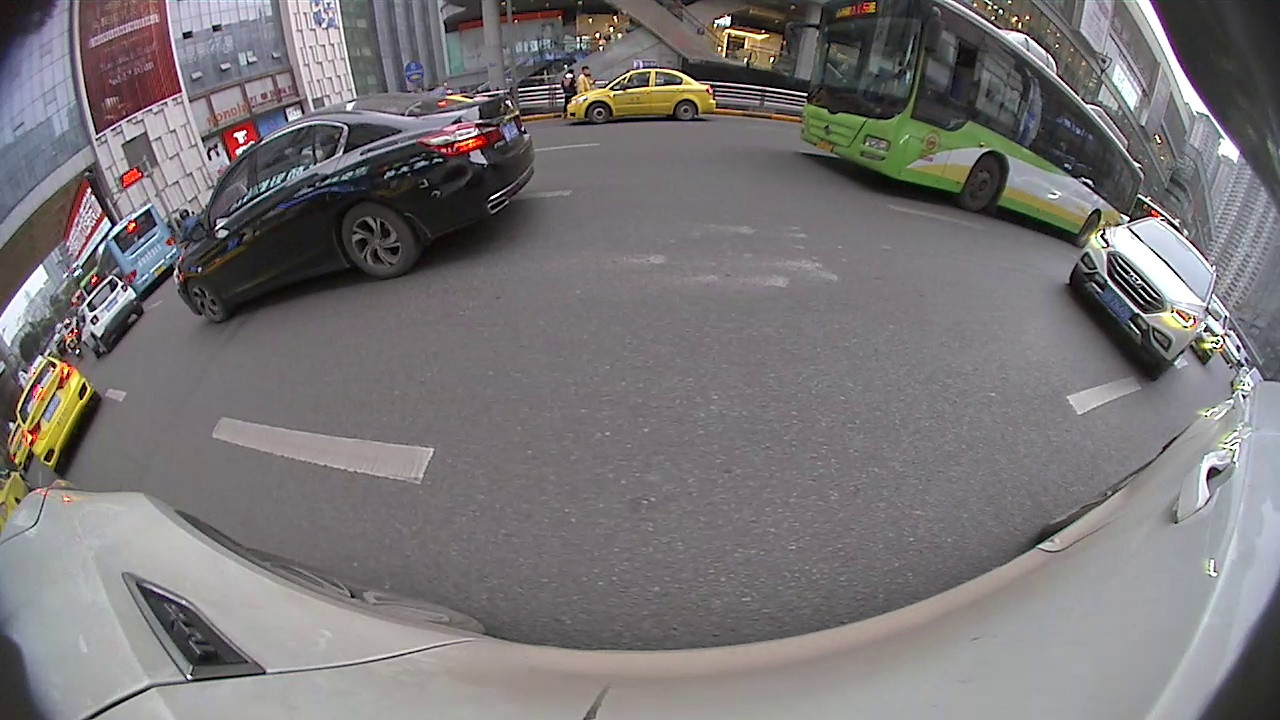bus: (803, 2, 1147, 251), (84, 198, 186, 307)
car: (177, 93, 544, 328), (1062, 218, 1219, 382), (560, 64, 718, 131), (13, 351, 98, 473), (80, 277, 146, 356)
front: (961, 154, 1002, 213), (182, 277, 225, 326), (587, 102, 612, 124)
rear: (340, 204, 416, 280), (1075, 211, 1099, 248), (674, 99, 697, 121)
